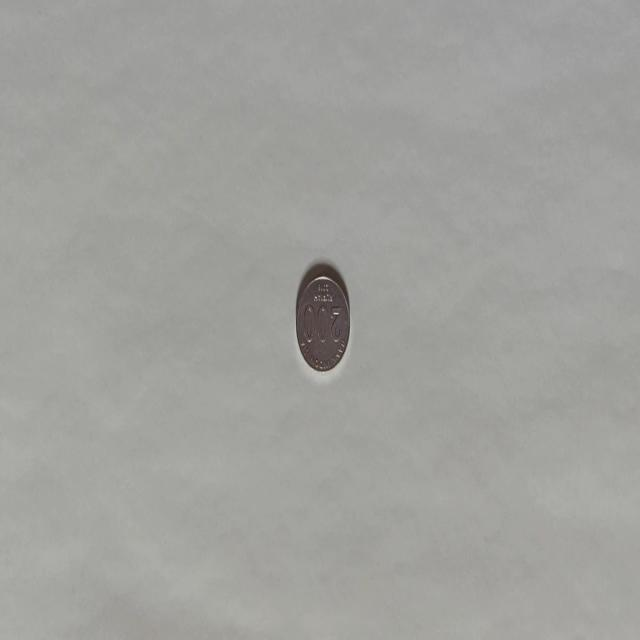dua ratus rupiah: (294, 271, 350, 373)
